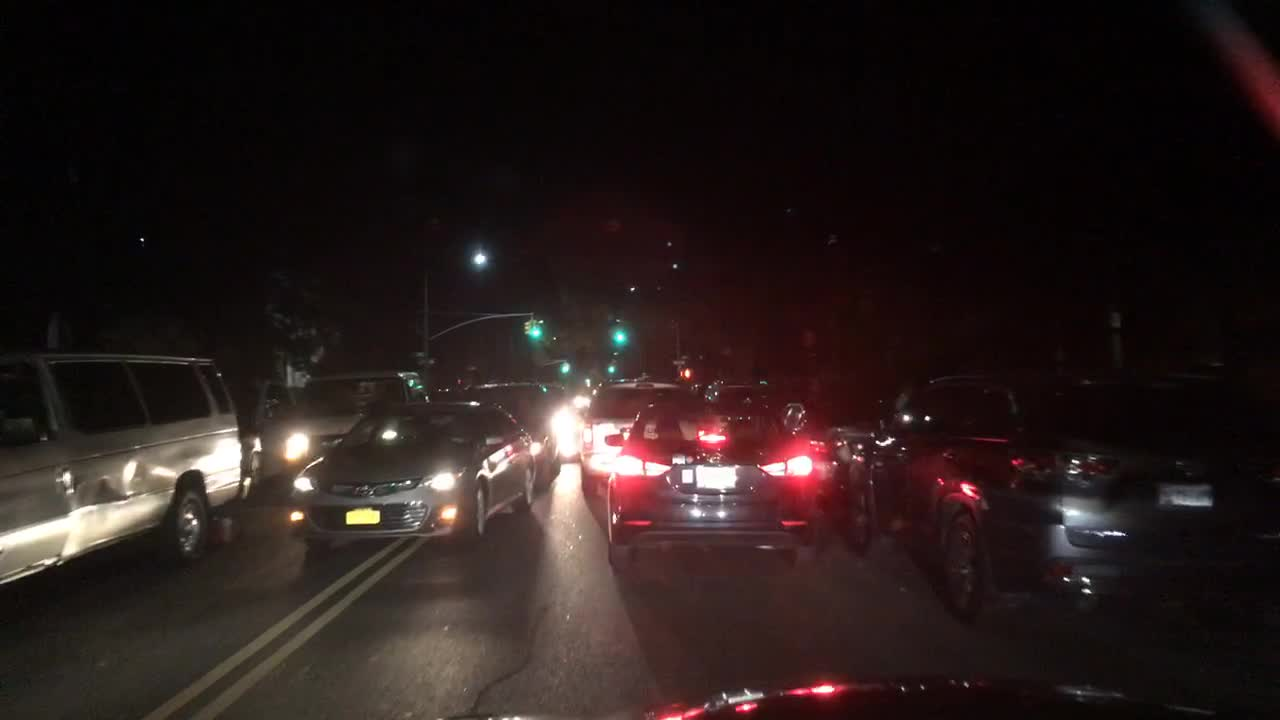car: (843, 363, 1277, 629), (0, 344, 260, 595), (602, 398, 827, 578), (285, 396, 535, 554), (272, 370, 428, 489), (427, 381, 563, 491), (578, 374, 692, 495), (810, 362, 905, 485), (220, 375, 291, 429), (554, 390, 596, 464), (705, 378, 780, 402), (508, 379, 567, 399)
traffic light: (528, 320, 542, 341), (522, 318, 533, 341), (614, 325, 626, 344), (560, 358, 571, 374), (677, 367, 693, 378), (606, 364, 618, 374)
traffic sign: (413, 355, 437, 369), (672, 355, 684, 366)
